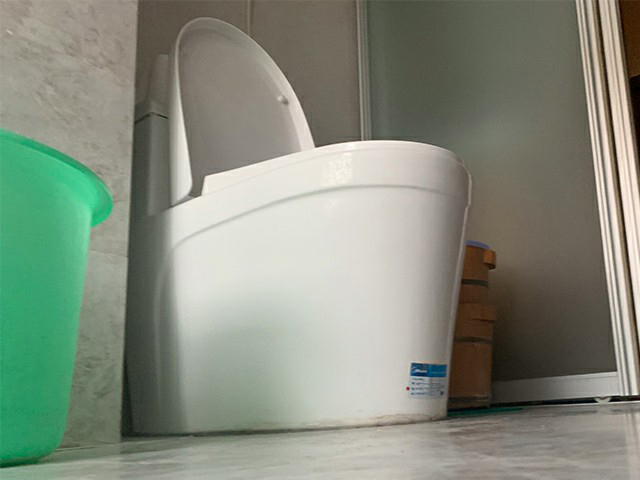closestool: (125, 16, 472, 438)
